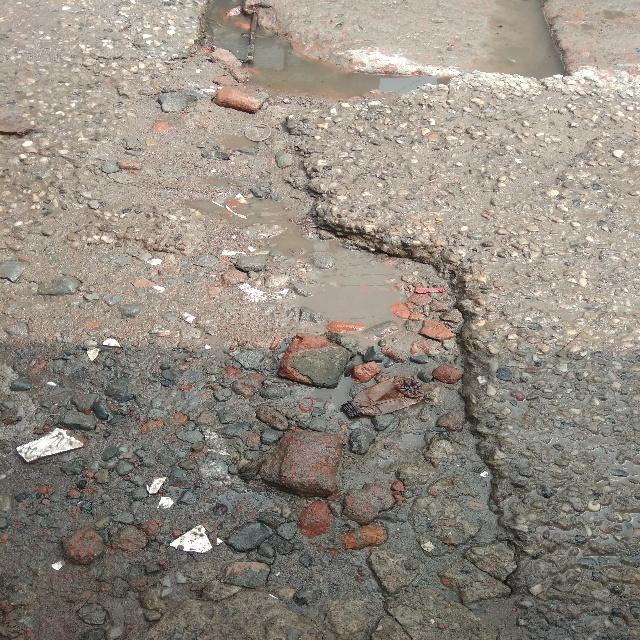Surface Erosion: (23, 12, 625, 640)
